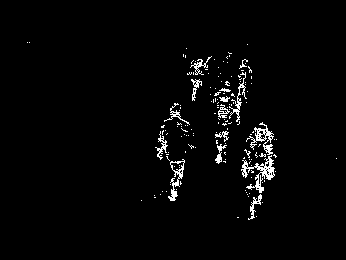person: (158, 103, 198, 202), (243, 124, 275, 220), (208, 80, 236, 165), (233, 56, 254, 122), (188, 58, 208, 102)
